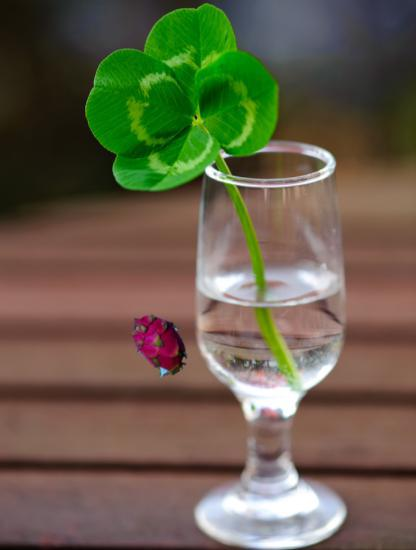Pitahaya: (126, 308, 195, 377)
